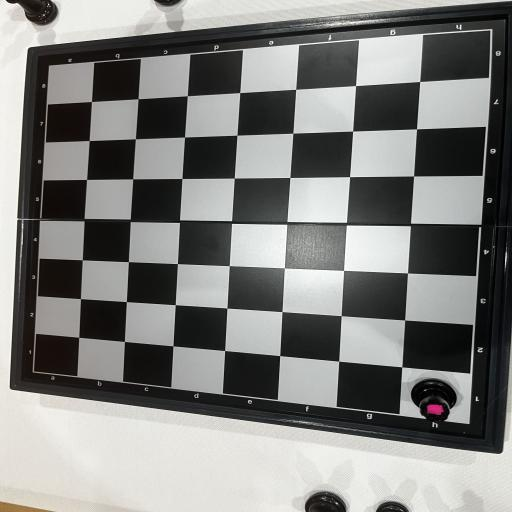Black rook: (410, 378, 457, 421)
